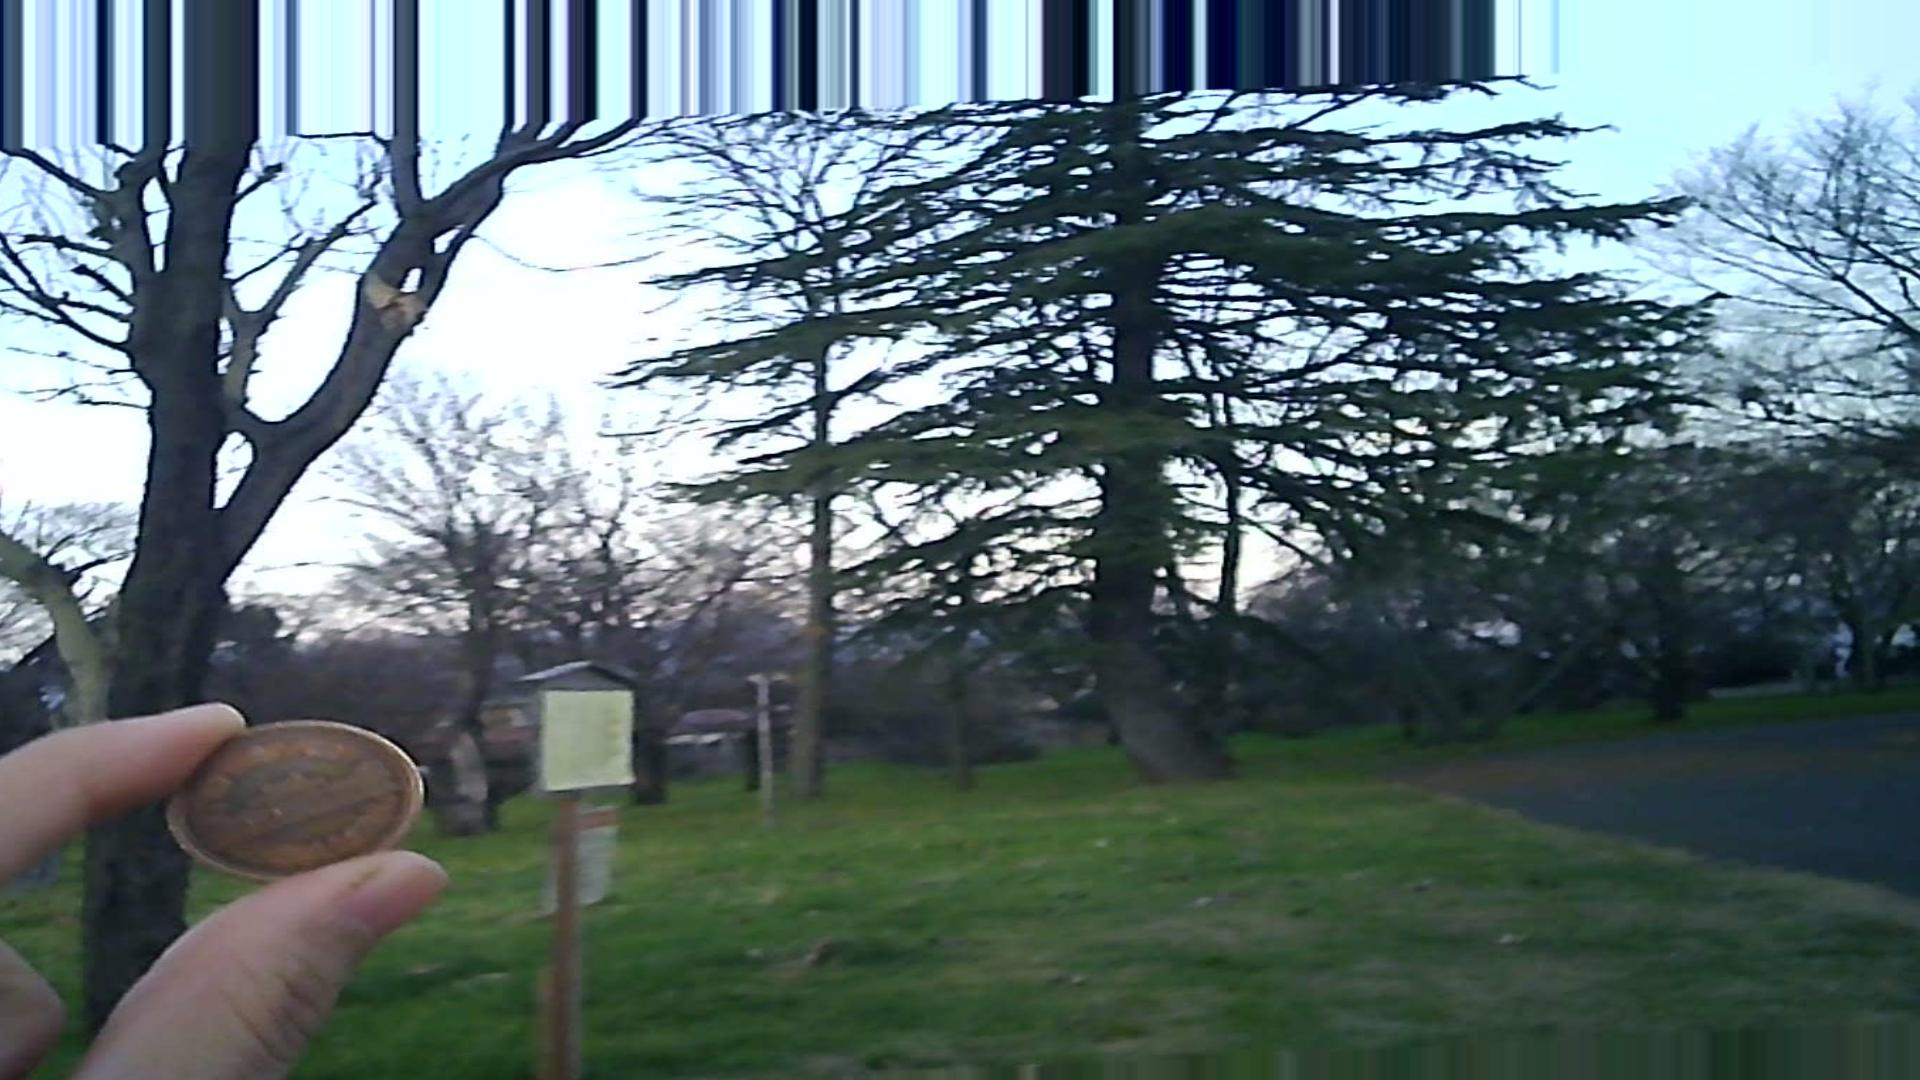10 Yen: (161, 709, 426, 866)
